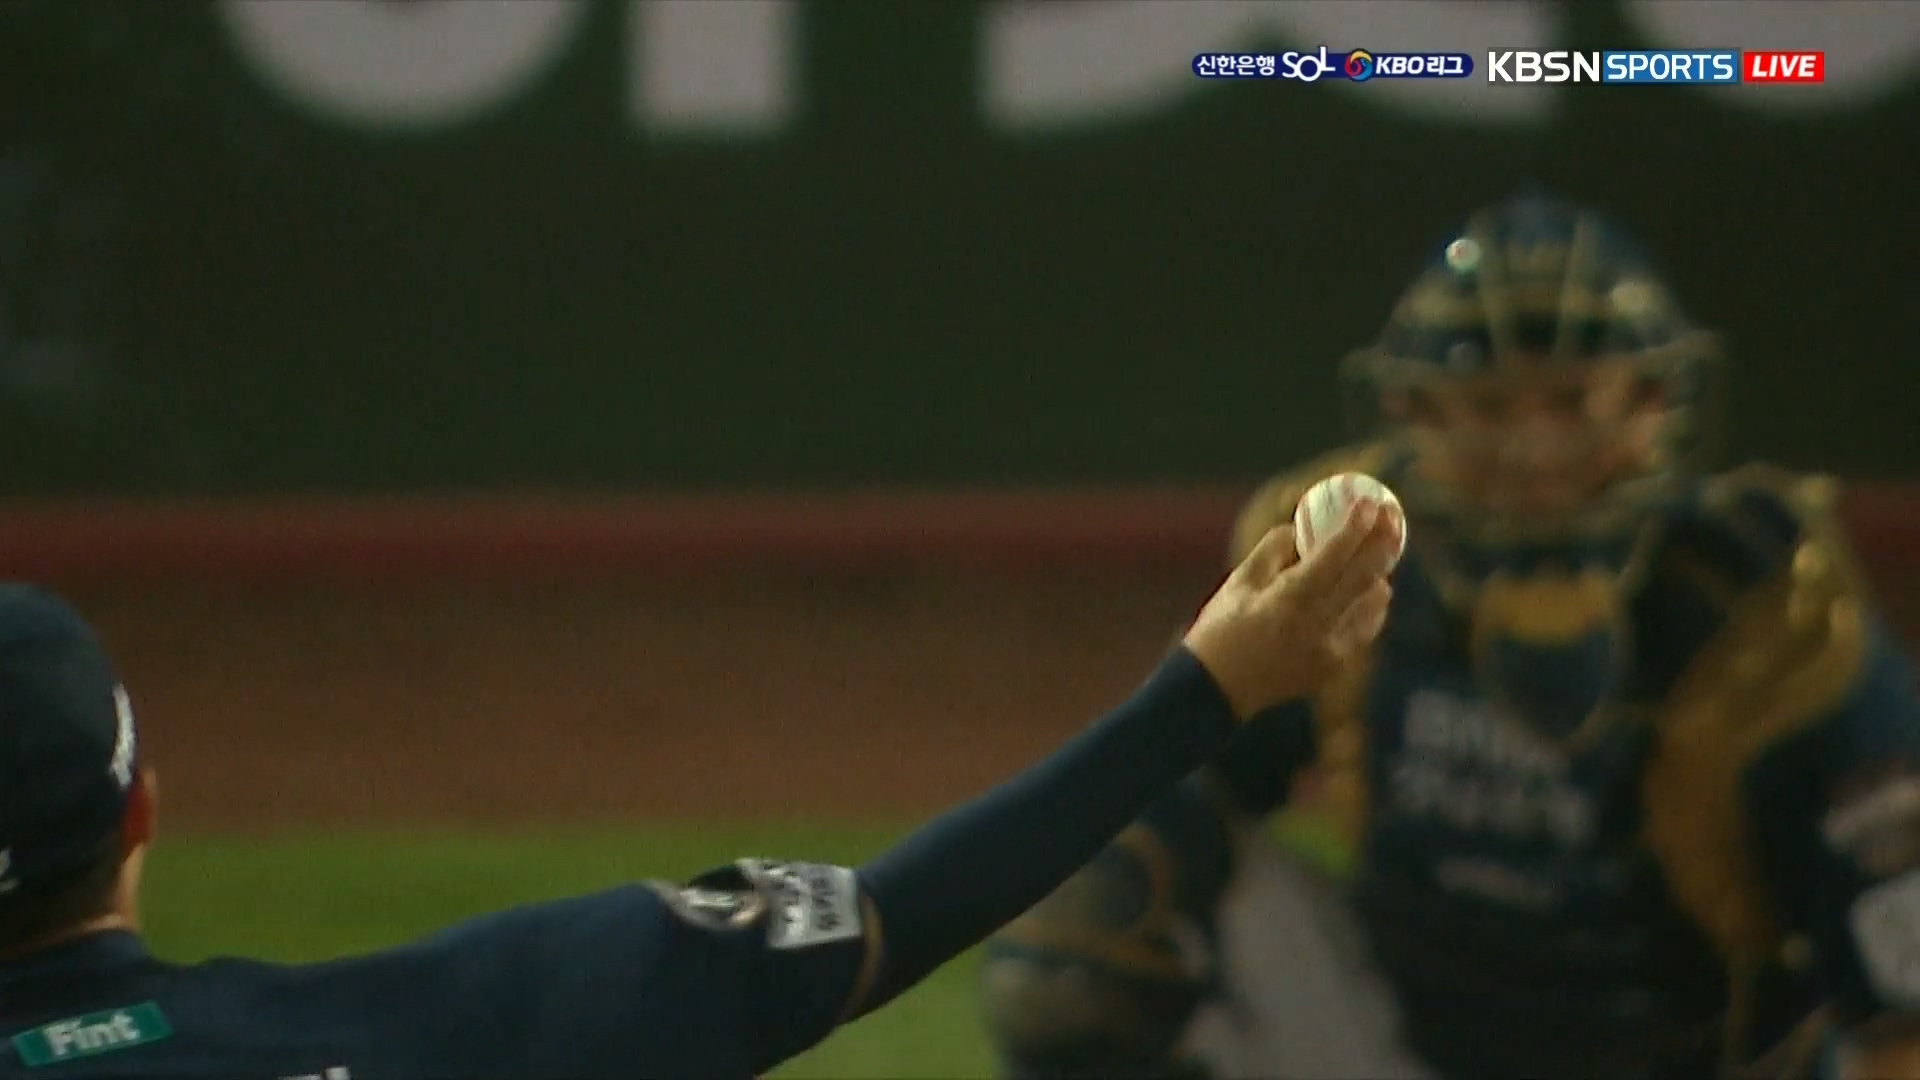zoomin_hand: (865, 464, 1414, 1017)
